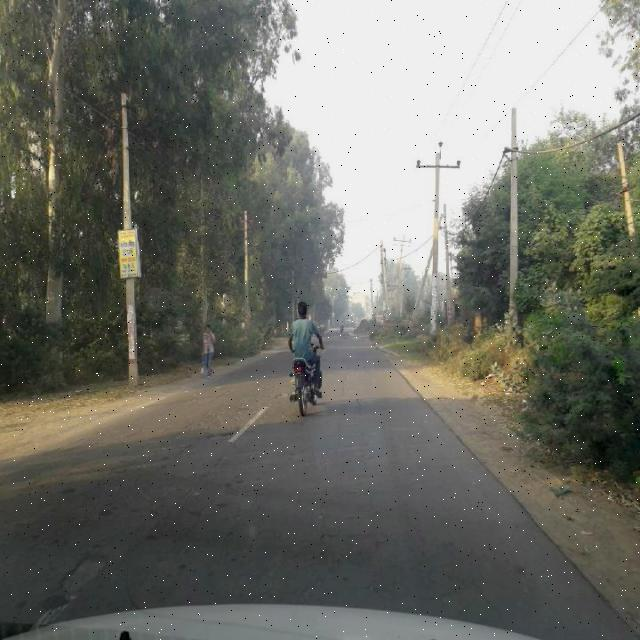D40: (50, 542, 110, 606)
